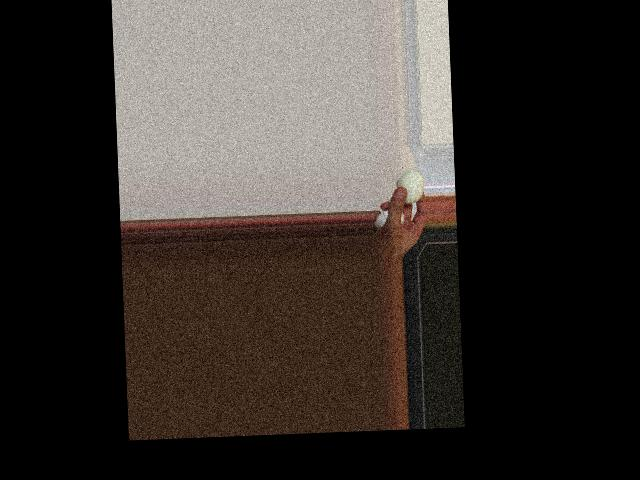egg: (395, 169, 424, 203)
